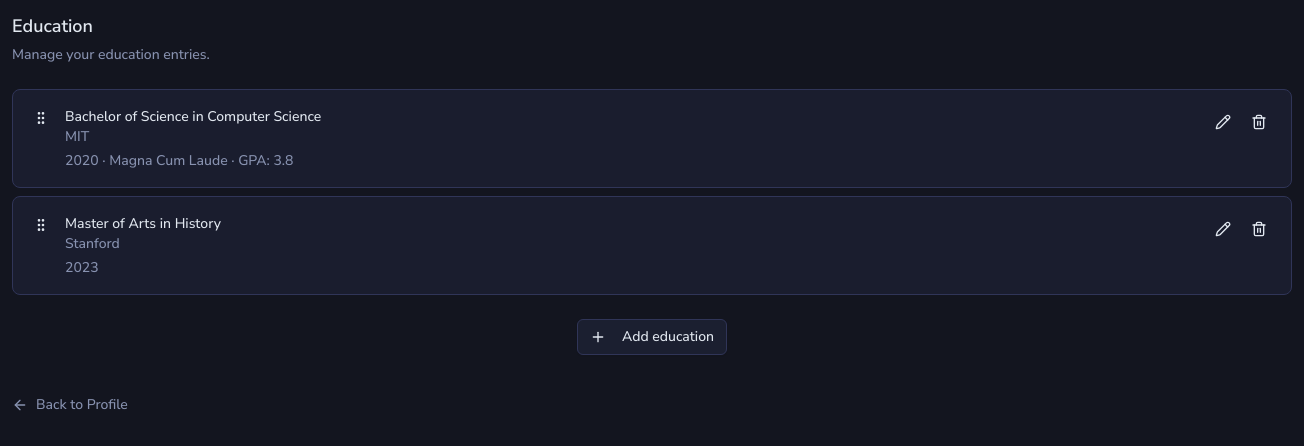
Test case: EducationEditor › add › returns to list on cancel
Step 1. Click the button "Add education" → [652, 337], box [577,319,727,355]
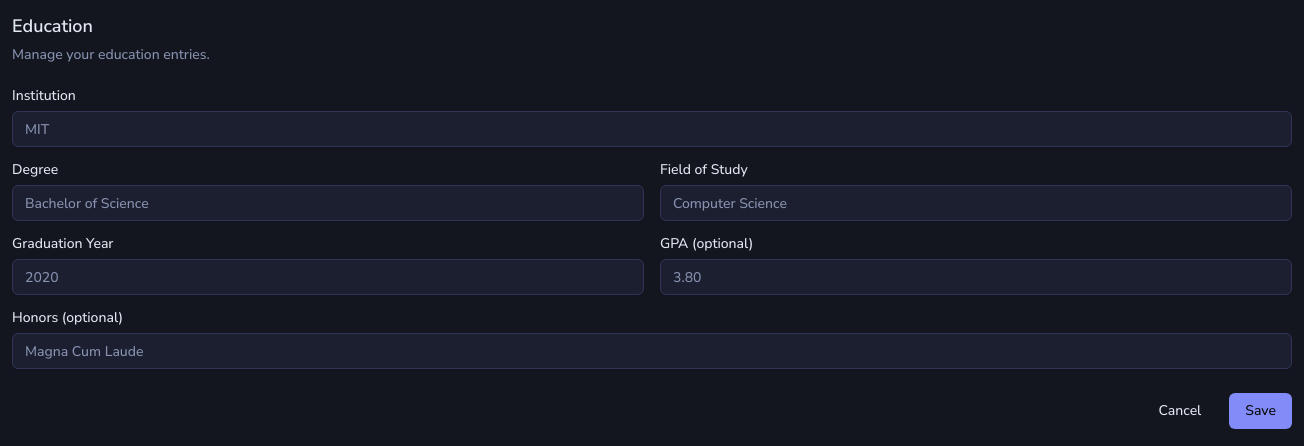
Check: the element with test id "education-form" is shown
Step 2. Click the button "Cancel" → [1180, 411], box [1143,393,1217,429]
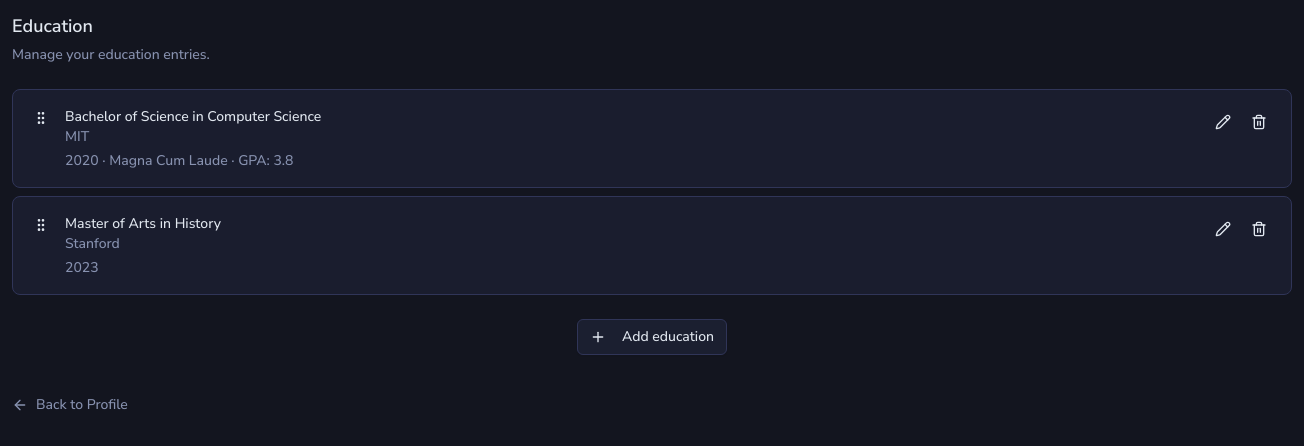
Check: the element with test id "education-form" is gone
Check: the text "MIT" is shown, box [65,127,89,146]
